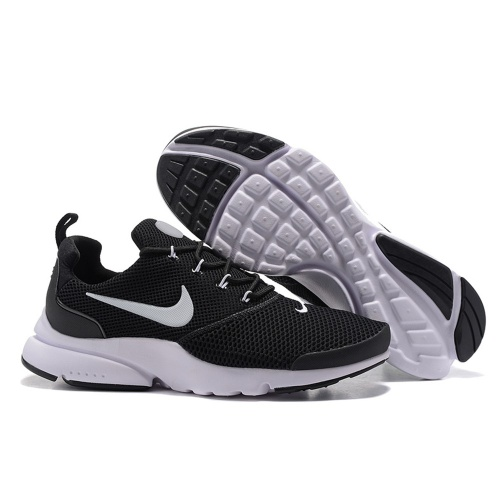nike: (80, 281, 199, 336)
